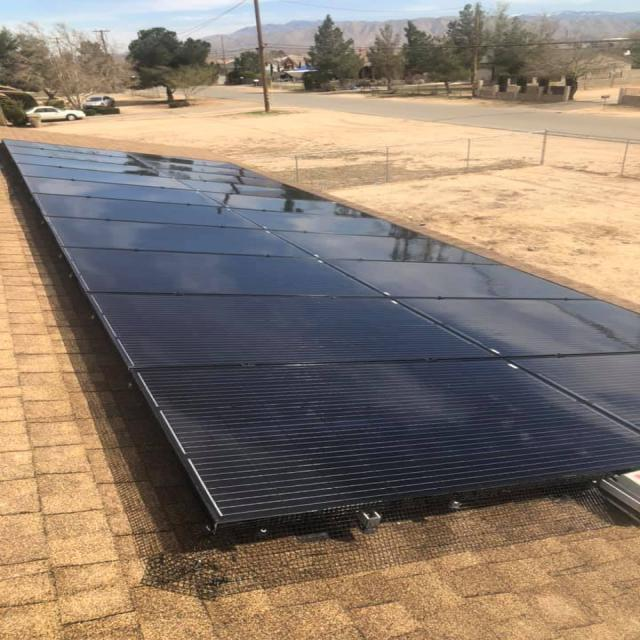clean-solar-panel: (6, 141, 638, 526)
